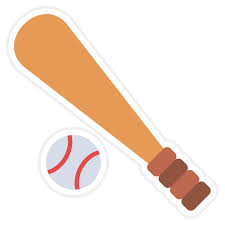baseball bat: (7, 5, 216, 214)
